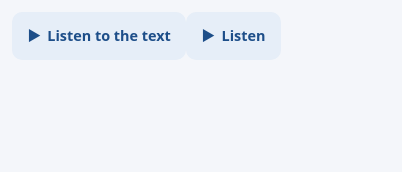
Test case: SpeakButton › reads several texts in order, and says when the audio fails to load
Step 1. Click the button "▶ Listen to the text" → (99, 36), box [12,12,186,60]
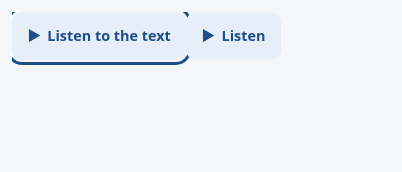
Step 2. Click the button "▶ Listen" → (234, 36), box [186,12,281,60]
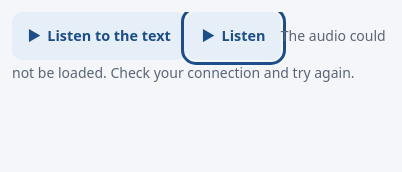
Expected: the message reads "The audio could not be loaded. Check your connection and try again.", [12,26,386,82]
